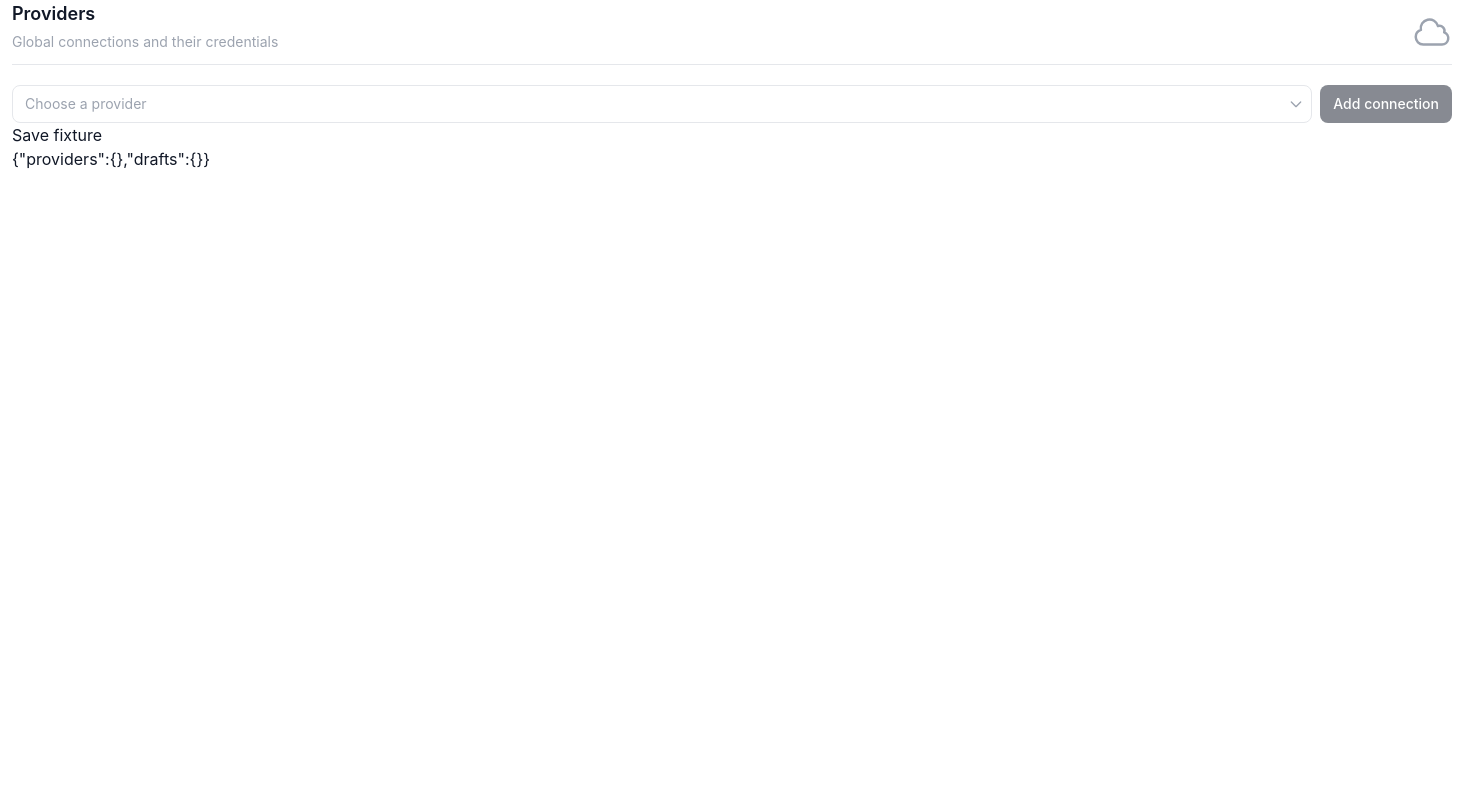
Test: metadata-driven provider connections › submits redirect completion through the generic login endpoint and clears the code
Type "Unseen" into the dropdown named "Provider brand". click: (662, 104)
box: 12,85 -> 1312,123
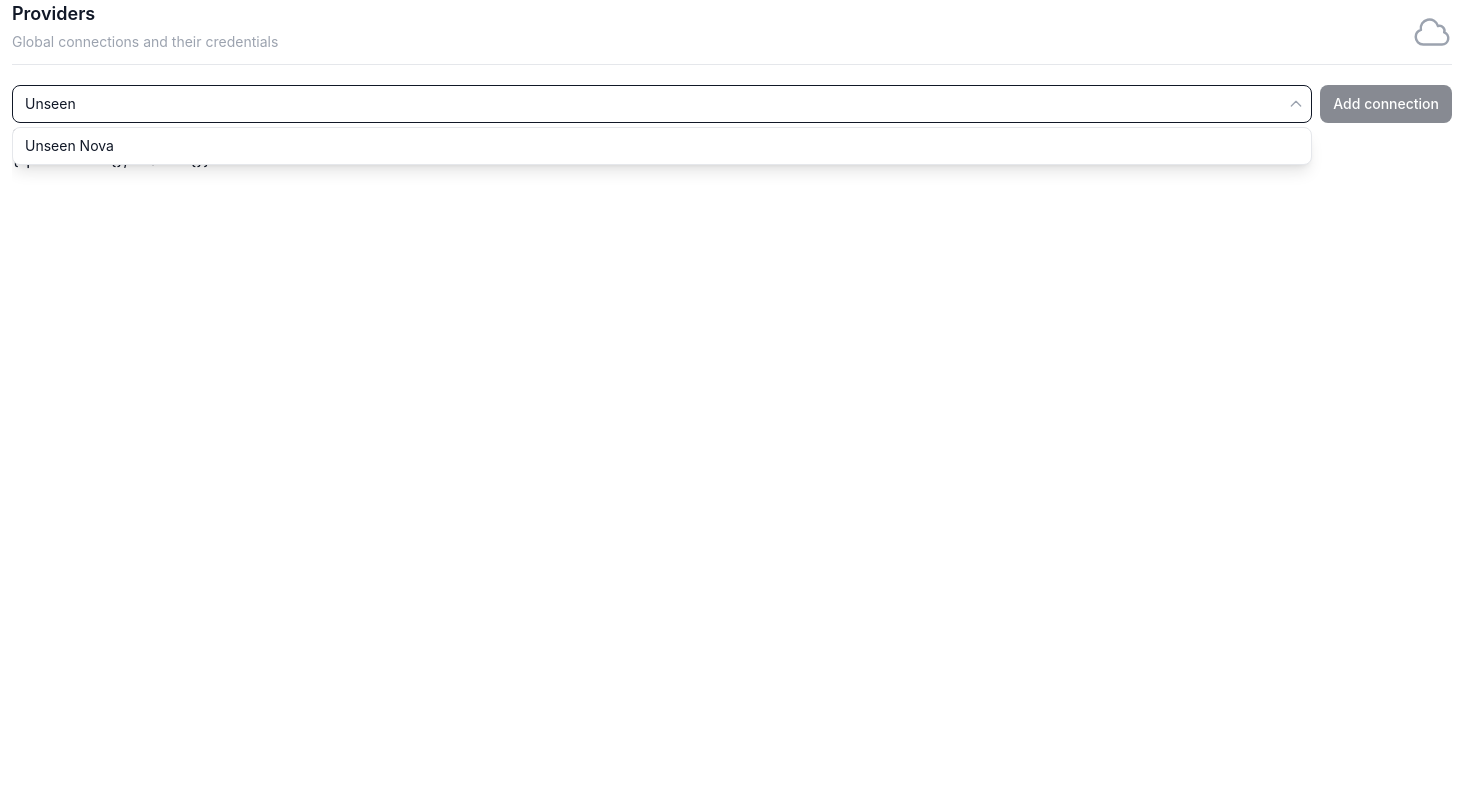
Expected: the button "Add connection" is disabled, 1320,85 -> 1452,123
Click the option "Unseen Nova". click: (70, 146)
box: 25,137 -> 114,154
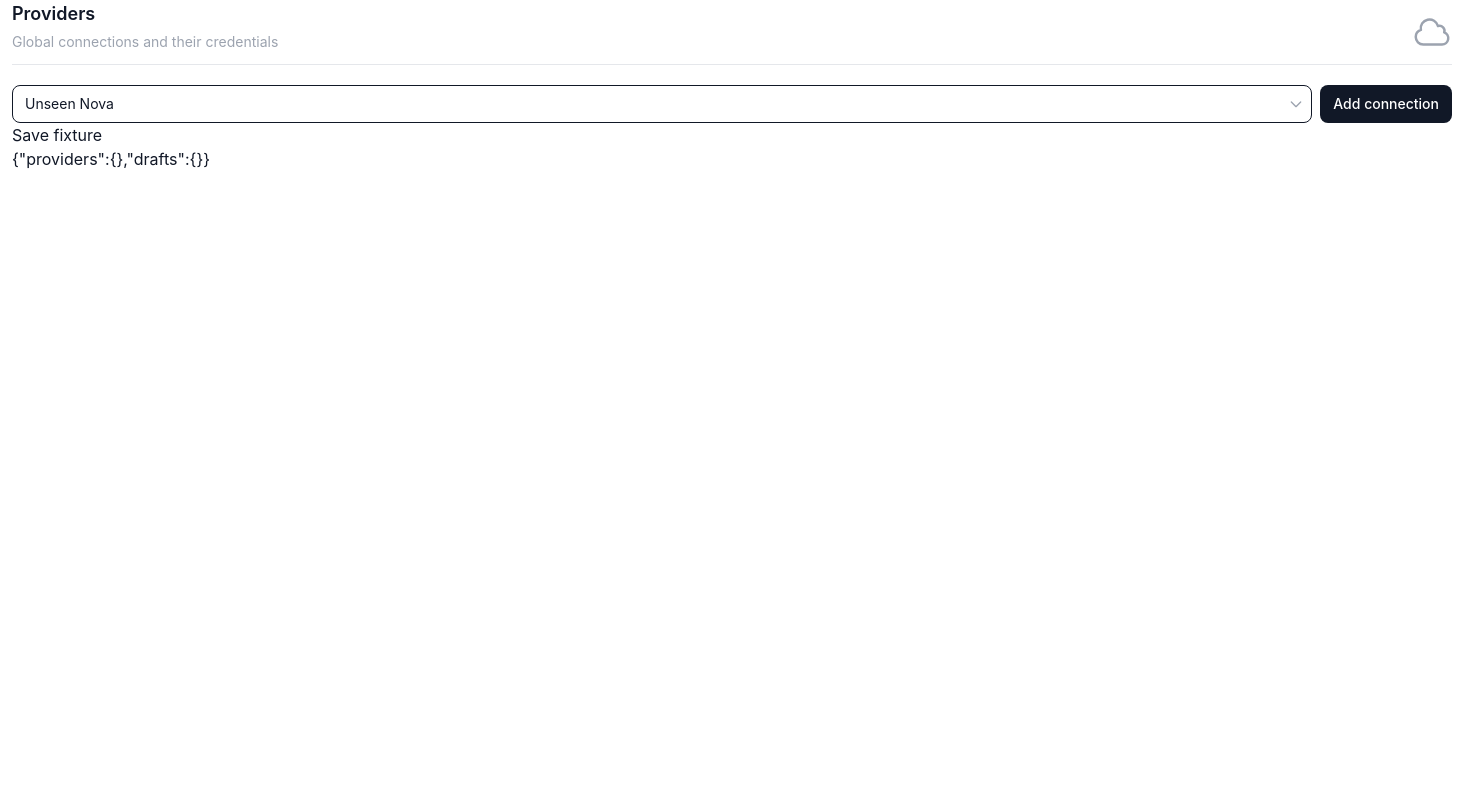
Click the button "Add connection". click: (1386, 104)
box: 1320,85 -> 1452,123
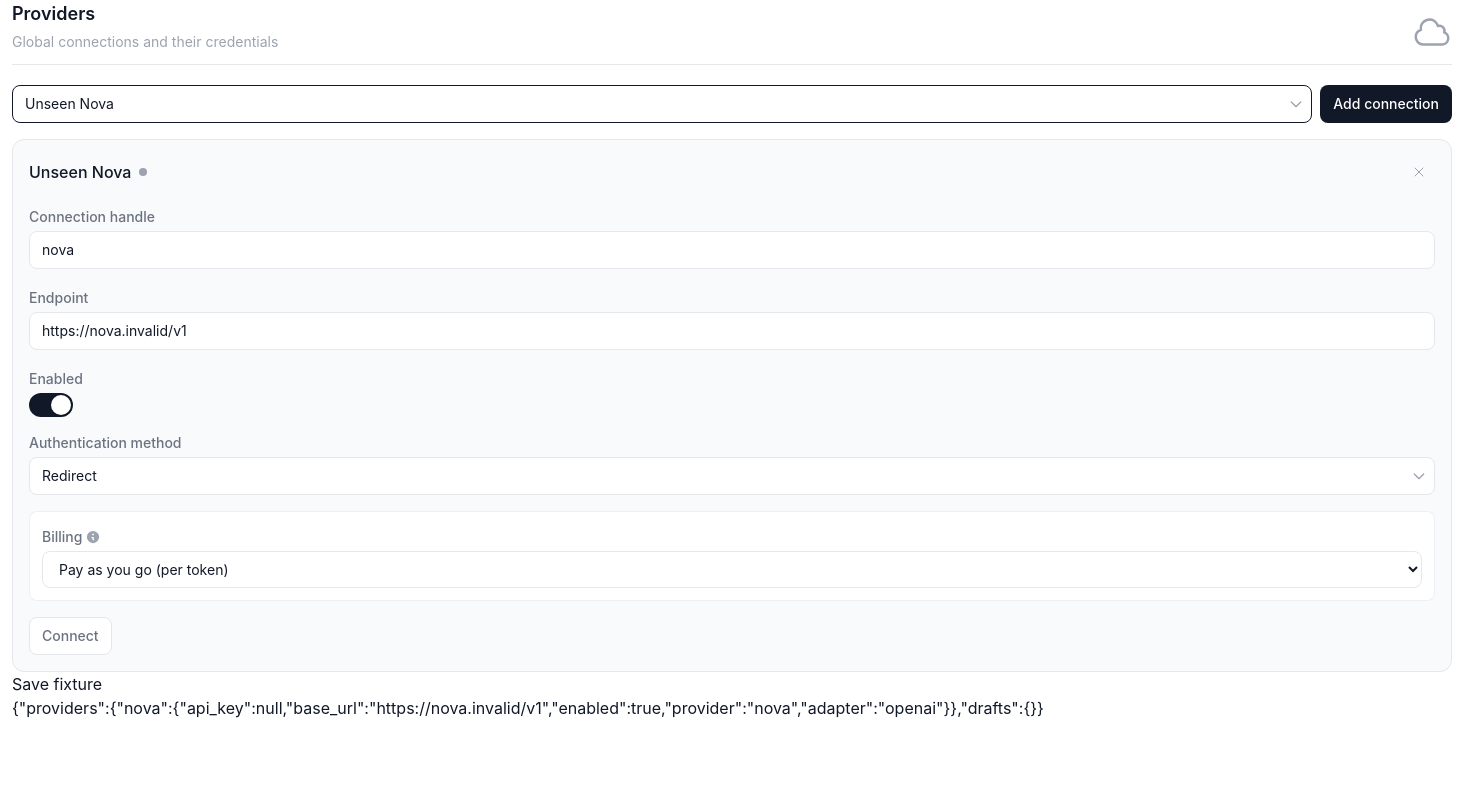
Click the button "Connect". click: (70, 636)
box: 29,617 -> 112,655
(page scrolled)
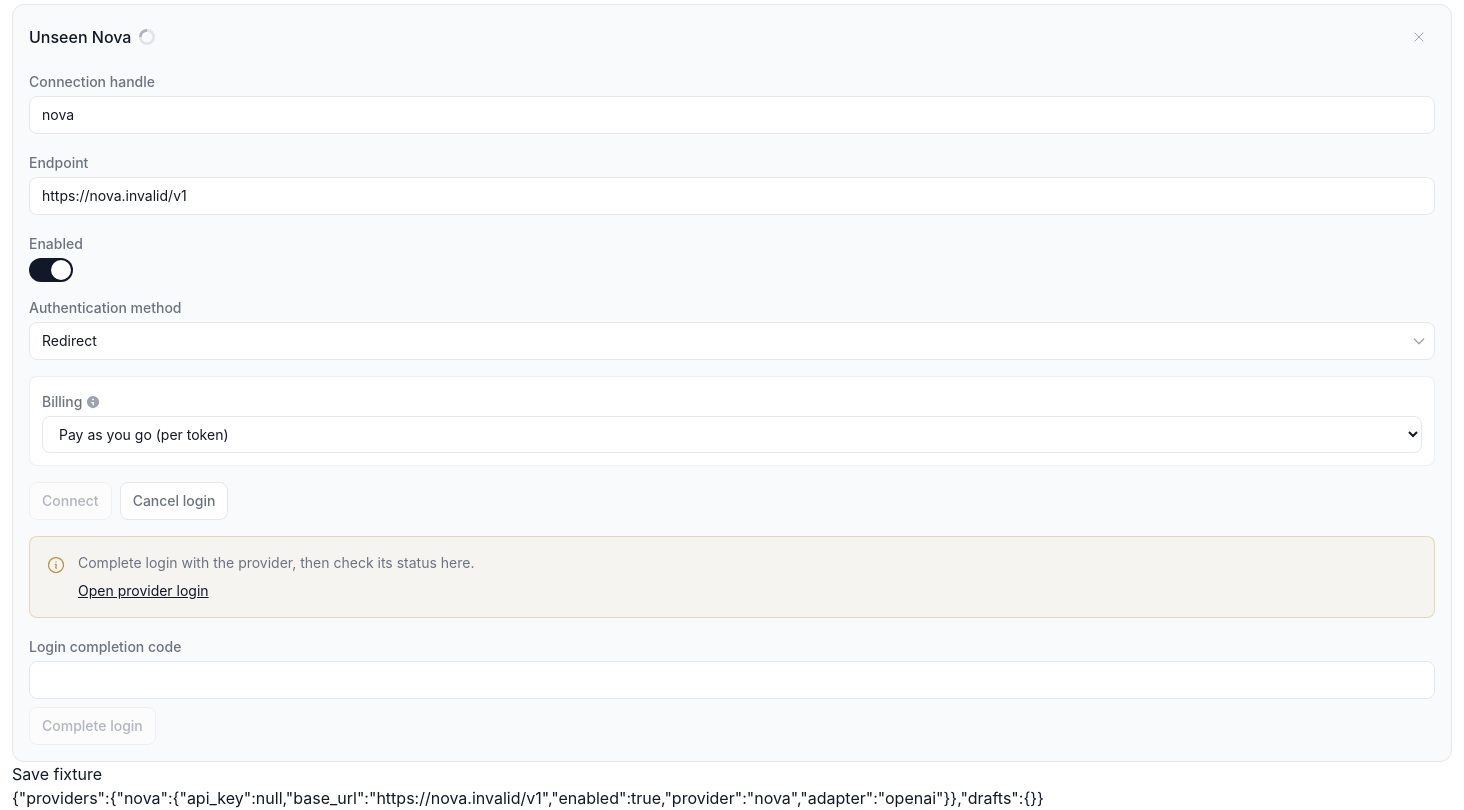
Type "private-completion-code" into the password field labelled "Login completion code". click: (732, 680)
box: 29,661 -> 1435,699
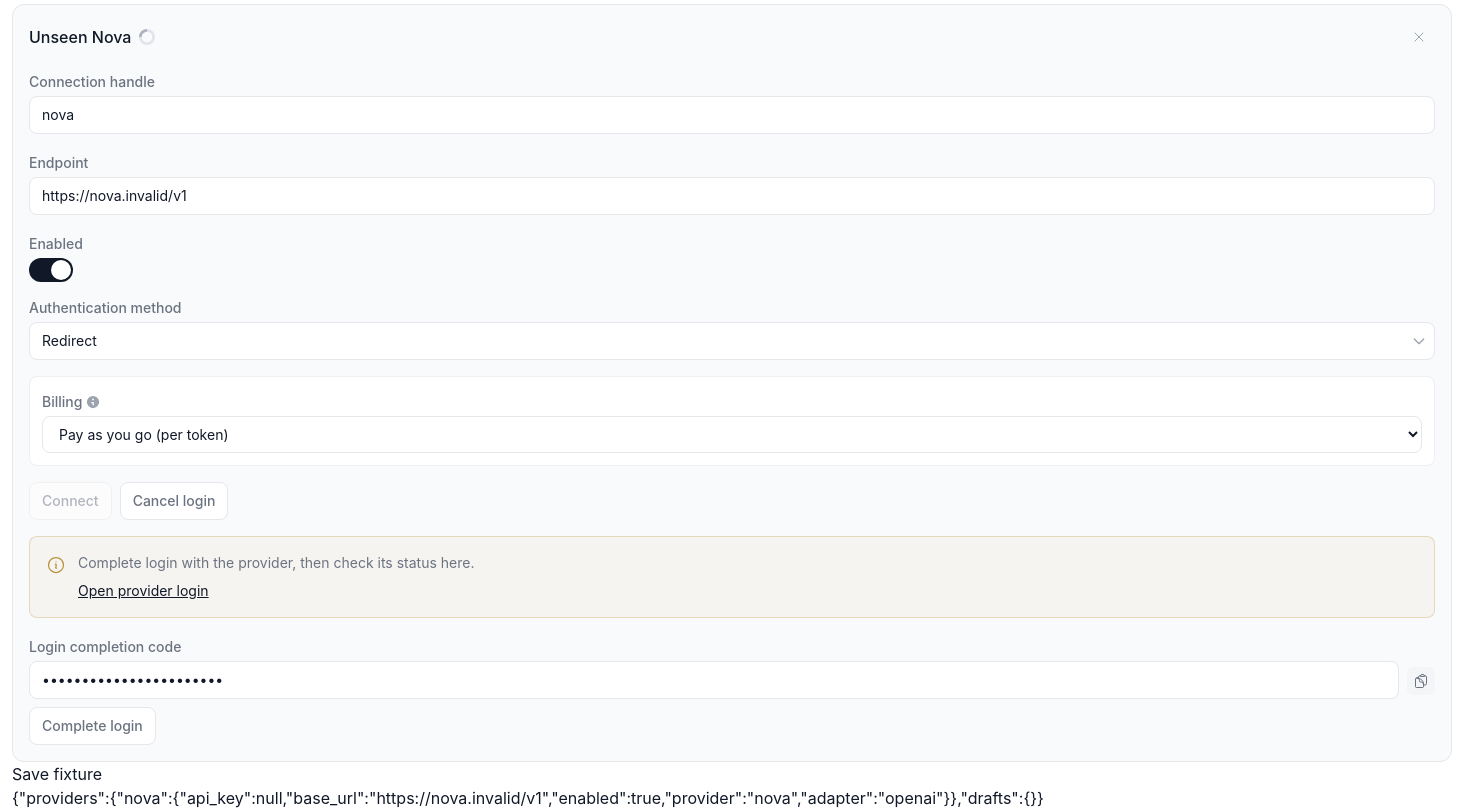
Click the button "Complete login". click: (92, 726)
box: 29,707 -> 156,745
(page scrolled)
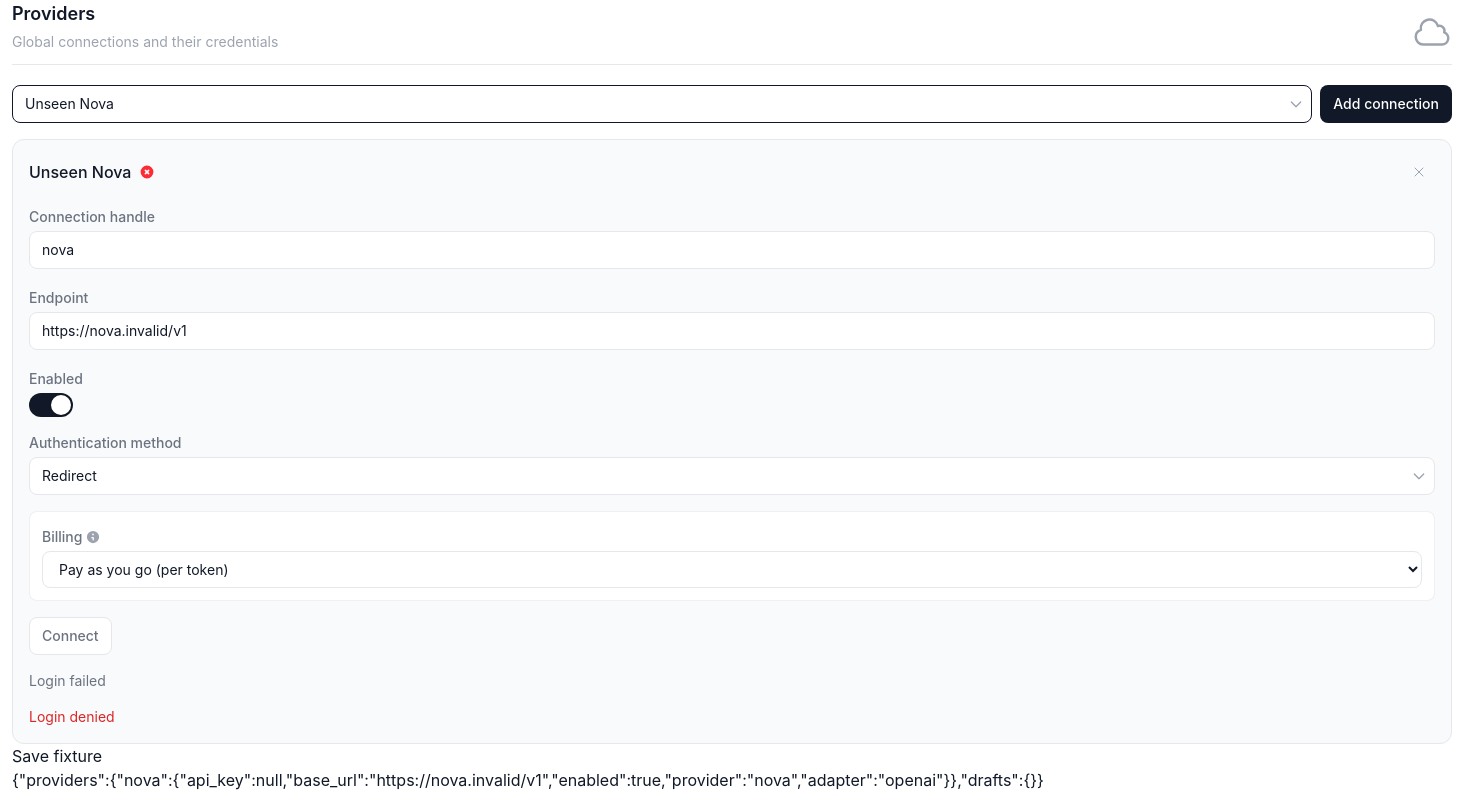
Expected: the text "Login denied" is shown, 29,708 -> 115,725
Expected: the label labelled "Login completion code" is gone
